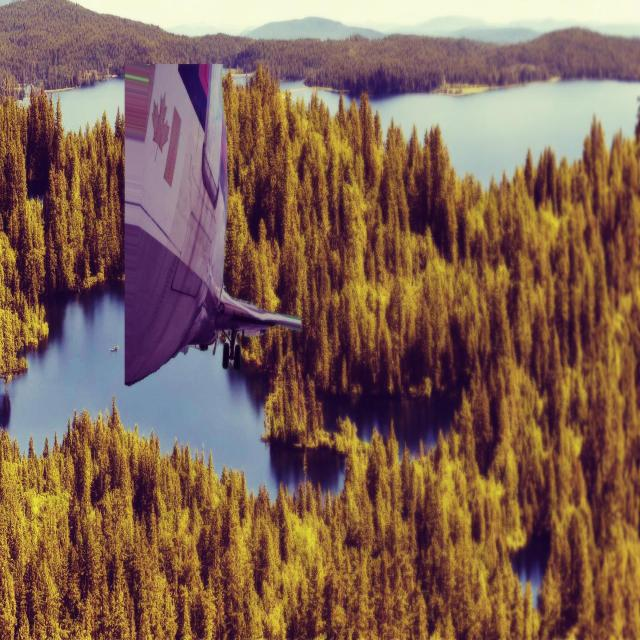airplane: (122, 60, 302, 386)
